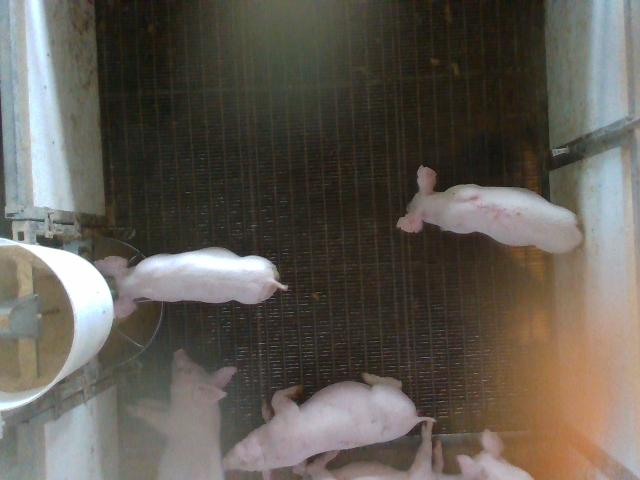pig-5: (396, 166, 582, 252)
